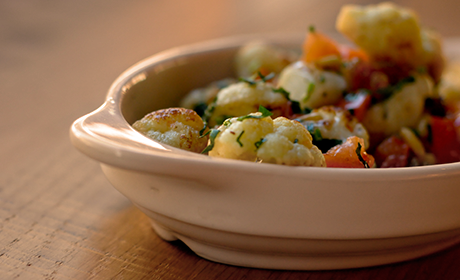sushi: (68, 29, 460, 271)
